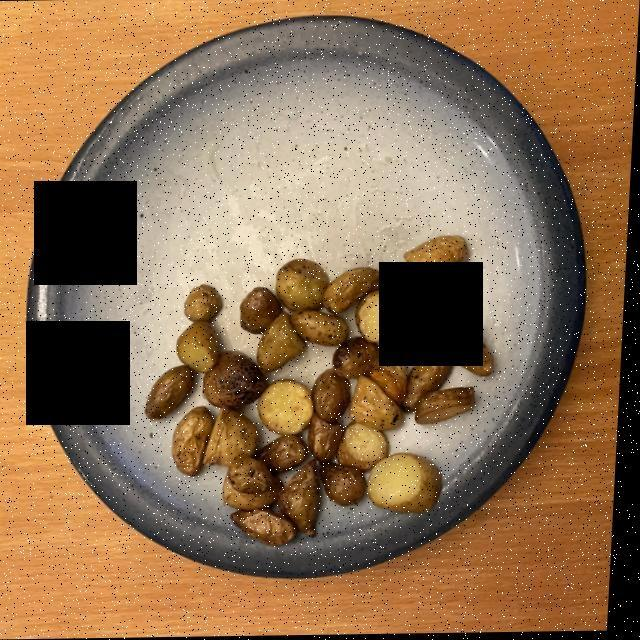baked-potato: (153, 246, 493, 539)
